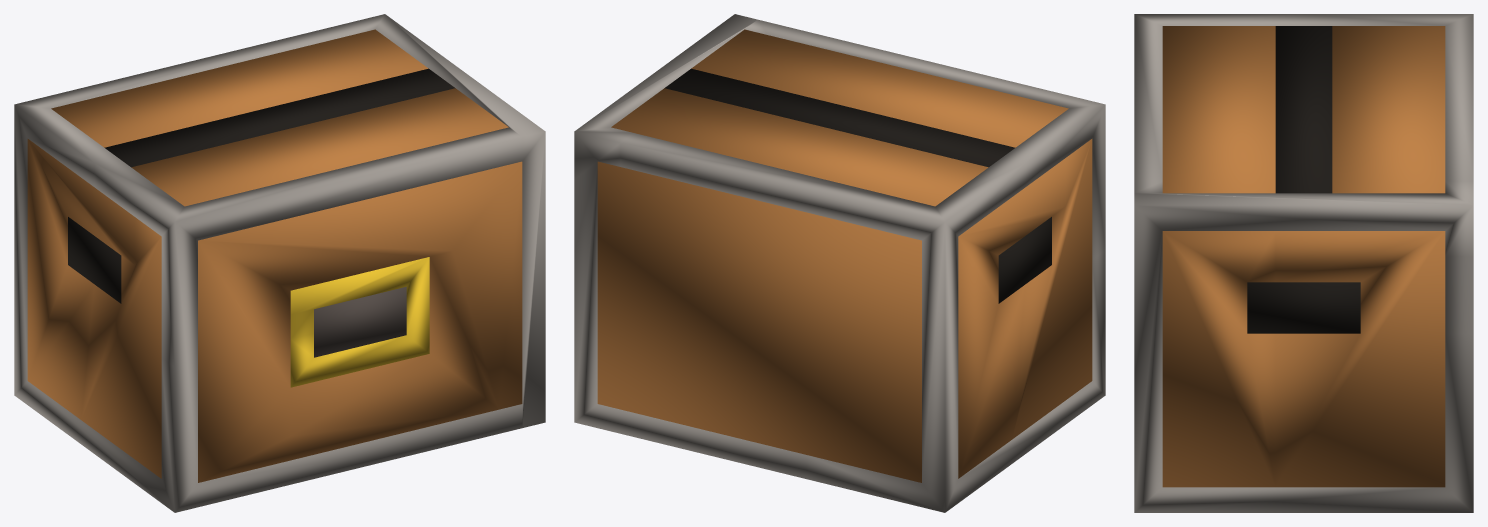
The model's file is cargo-box.lod1.glb.
3 renders of one model, left to right at view 1: azimuth 30°, elevation 25°; view 2: azimuth 150°, elevation 25°; view 3: azimuth 270°, elevation 25°, orthographic. The views are drawn at different scales.
Visible parts, largest first — view 1: cargo-box.body; view 2: cargo-box.body; view 3: cargo-box.body.
Boxes of the visible parts, x1,y1,x2,y2 form: cargo-box.body: (14, 14, 545, 512); cargo-box.body: (574, 14, 1105, 512); cargo-box.body: (1134, 14, 1473, 512).
Bounding box in the file's own units: 0.5 × 0.375 × 0.375.
